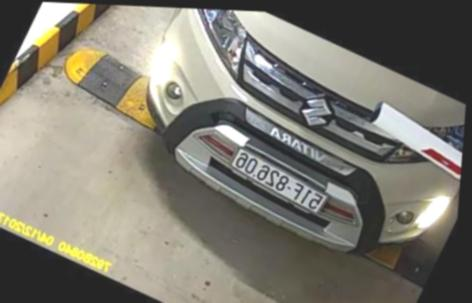License_Plate: (214, 150, 332, 216)
